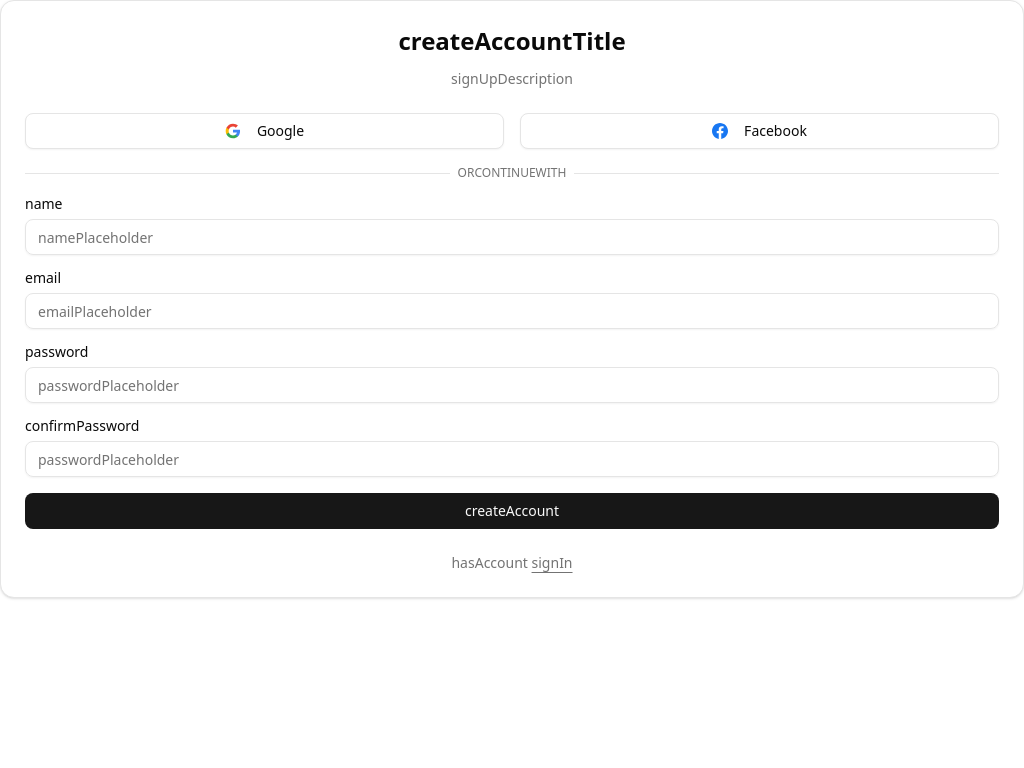
Test: SignUpPage › Social Sign-Up › disables social buttons during form submission
Type "Test User" into the field with test id "name-input" at (512, 237), box [25,219,999,255]
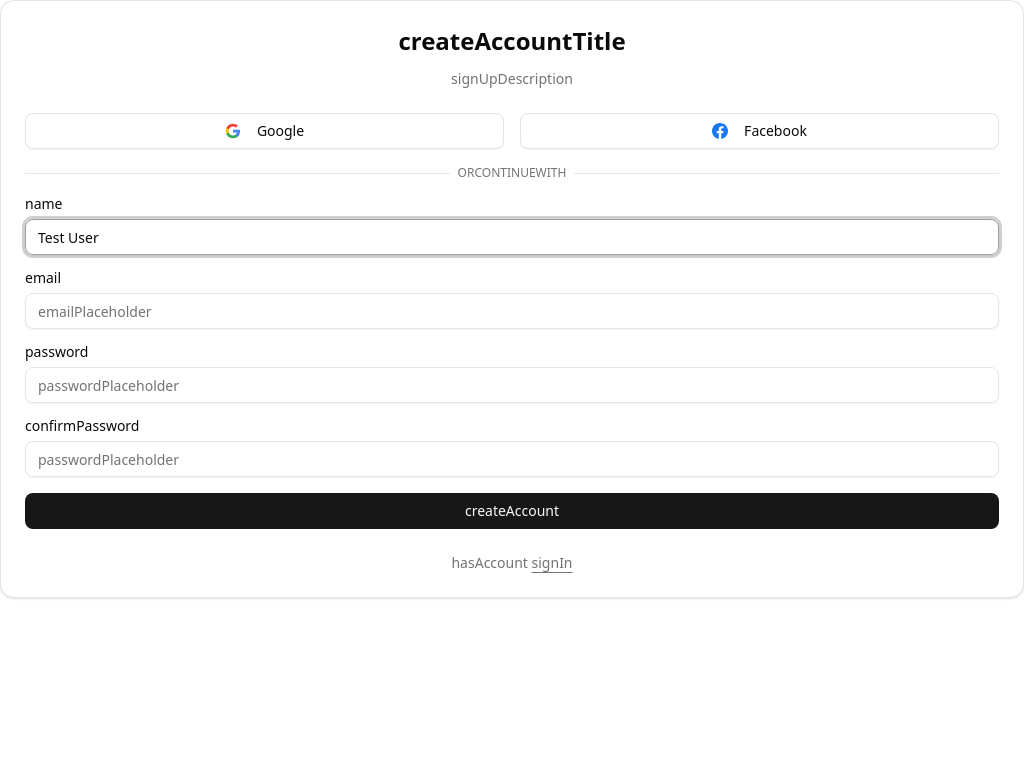
Type "test@example.com" into the field with test id "email-input" at (512, 311), box [25,293,999,329]
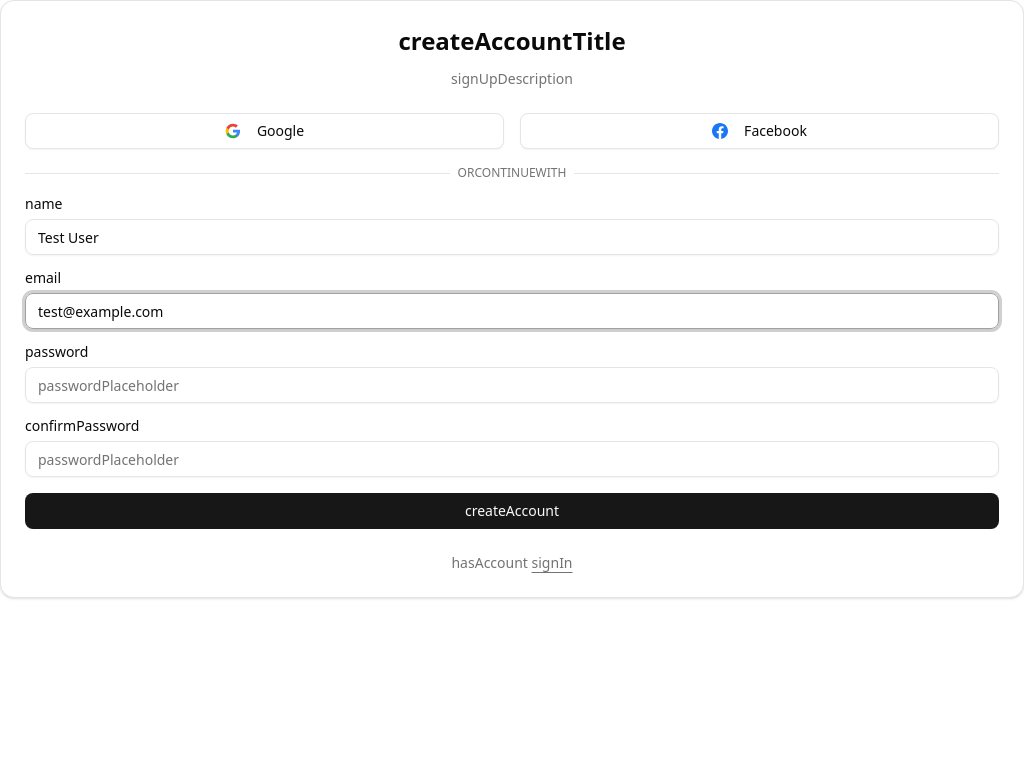
Type "password123" into the password field with test id "password-input" at (512, 385), box [25,367,999,403]
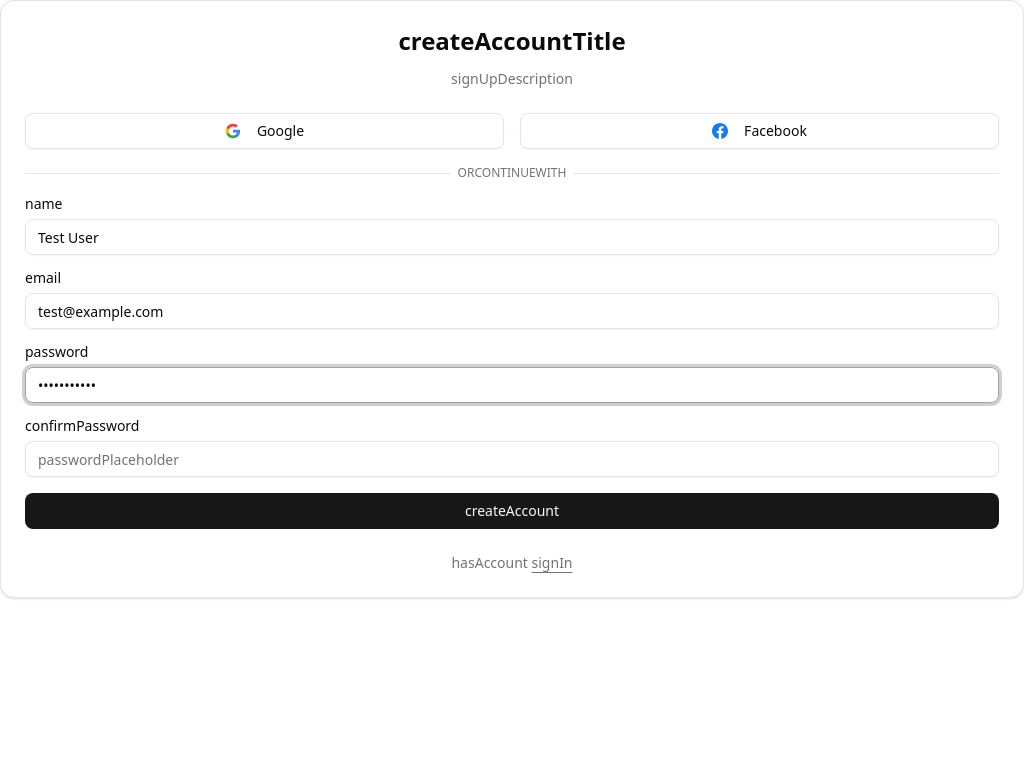
Type "password123" into the password field with test id "confirm-password-input" at (512, 459), box [25,441,999,477]
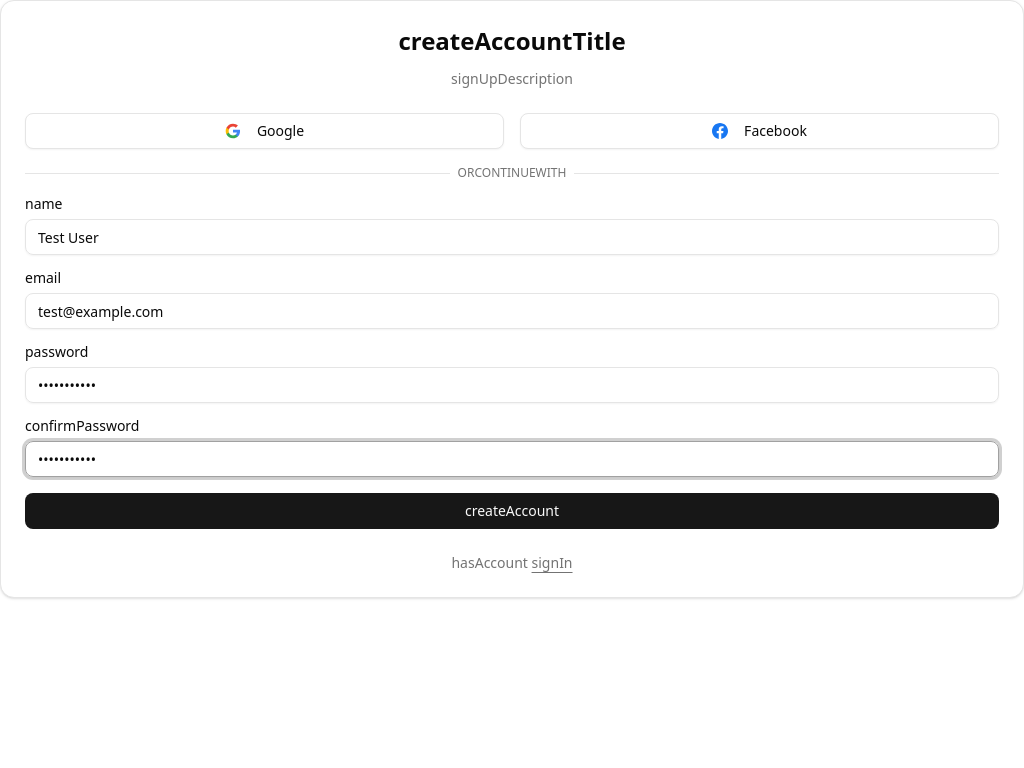
Click the button with test id "signup-submit" at (512, 511), box [25,493,999,529]
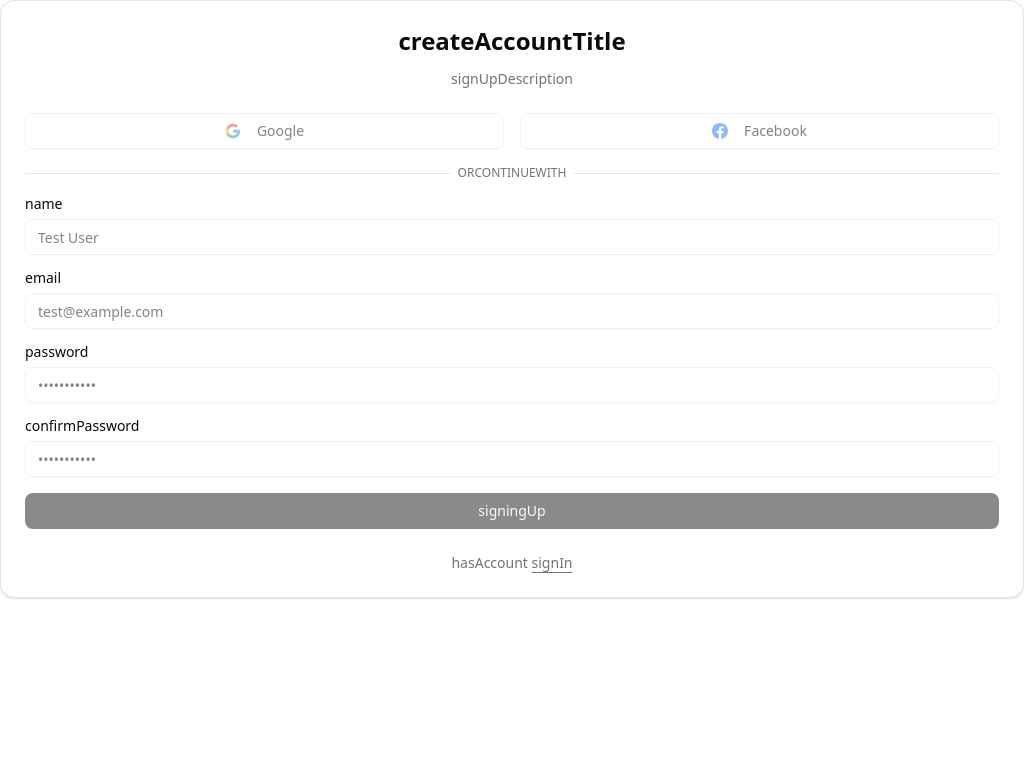
expect the button with test id "google-signup" is disabled: met, box [25,113,504,149]
expect the button with test id "facebook-signup" is disabled: met, box [520,113,999,149]
